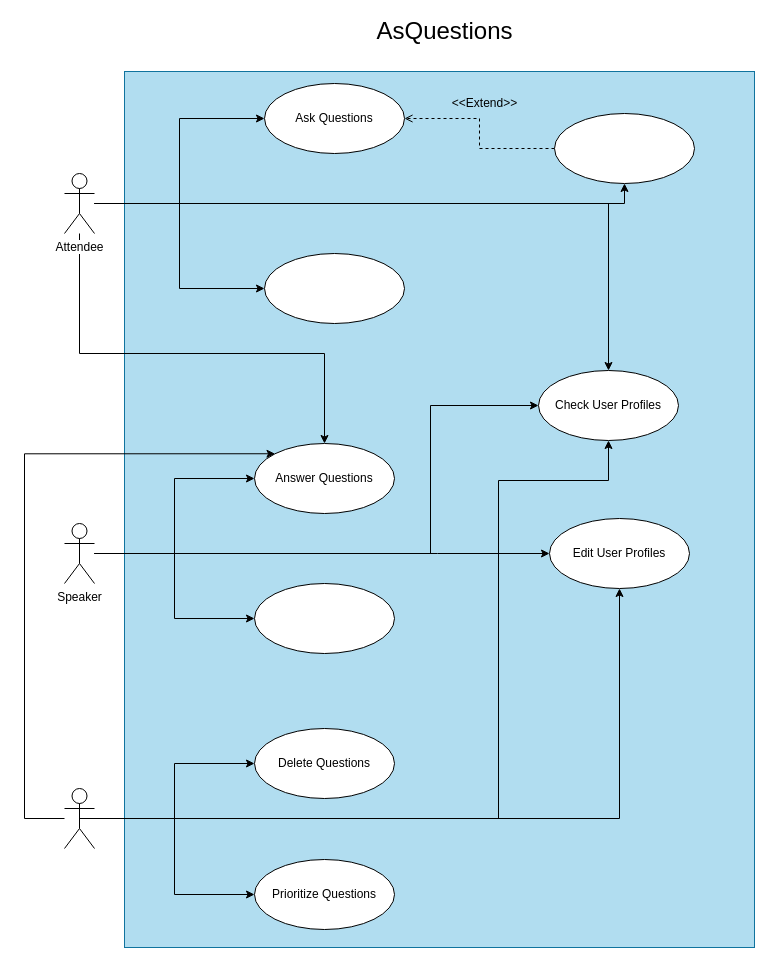
Some shapes in this 772 by 965 pixel diagram are drawn without their labels. The centre of each missing label's shape, as x and y in pixels:
"Create a forum for the questions to be posted" goes at point (324, 618).
"Moderator" goes at point (79, 818).
"Tag slide" goes at point (624, 148).
"Upvote/Downvote questions" goes at point (334, 288).
